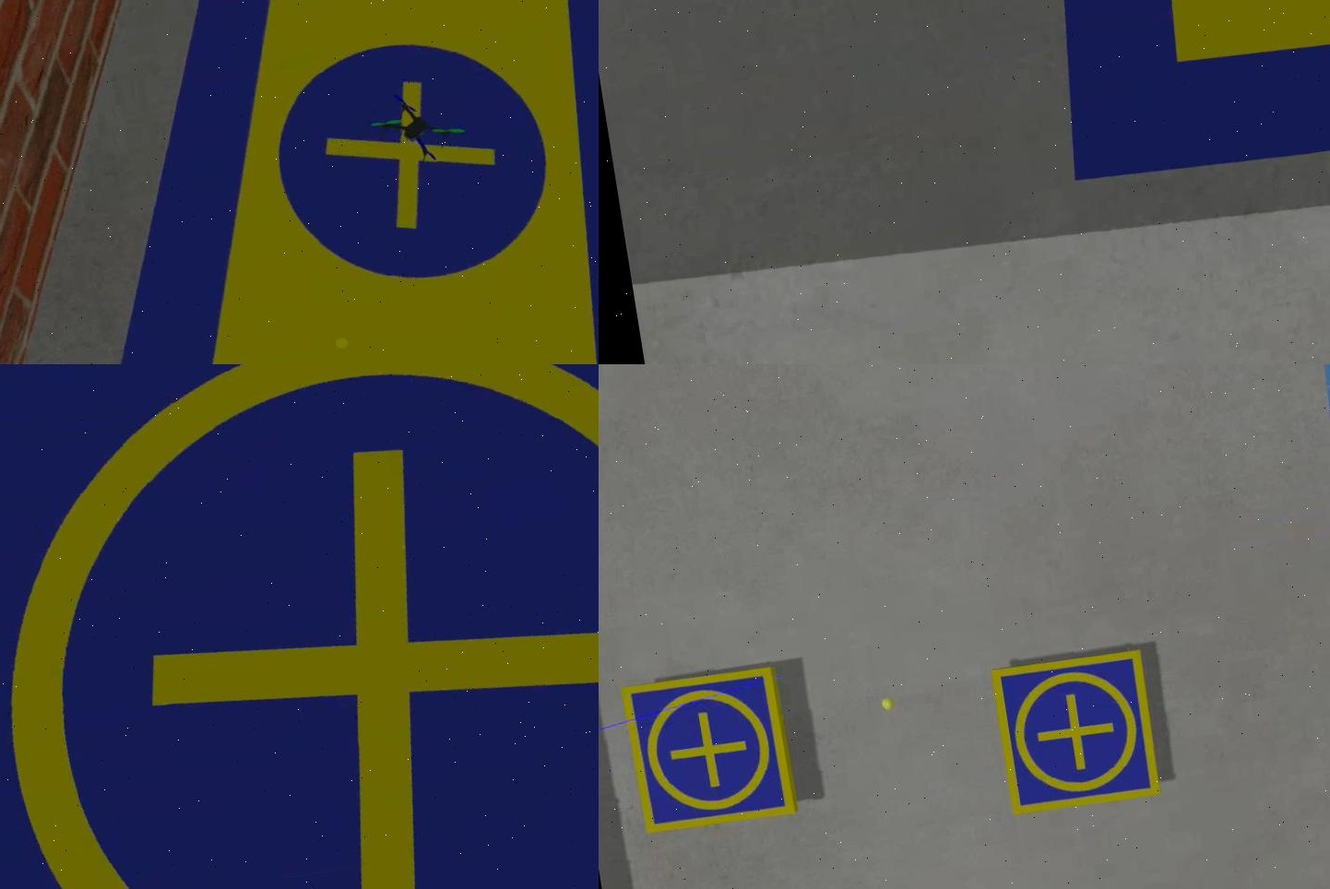large_base: (18, 1, 598, 365), (982, 1, 1328, 219)
small_base: (0, 365, 598, 889), (622, 664, 799, 843), (989, 646, 1161, 821)
